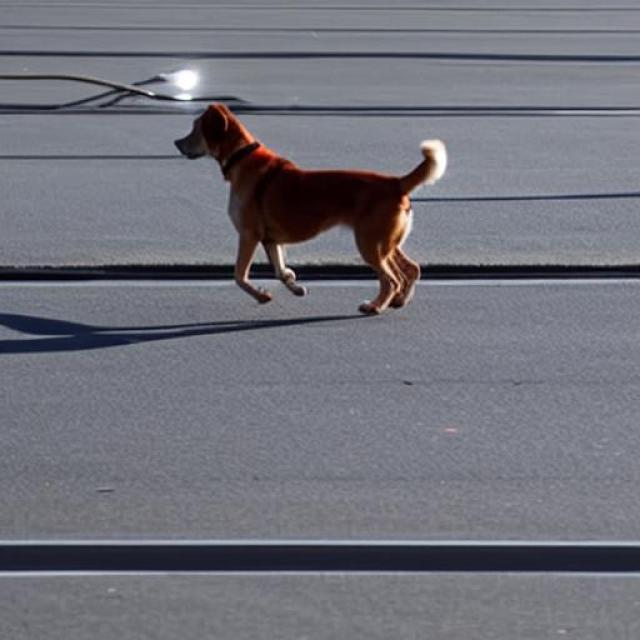Dog: (175, 103, 446, 316)
